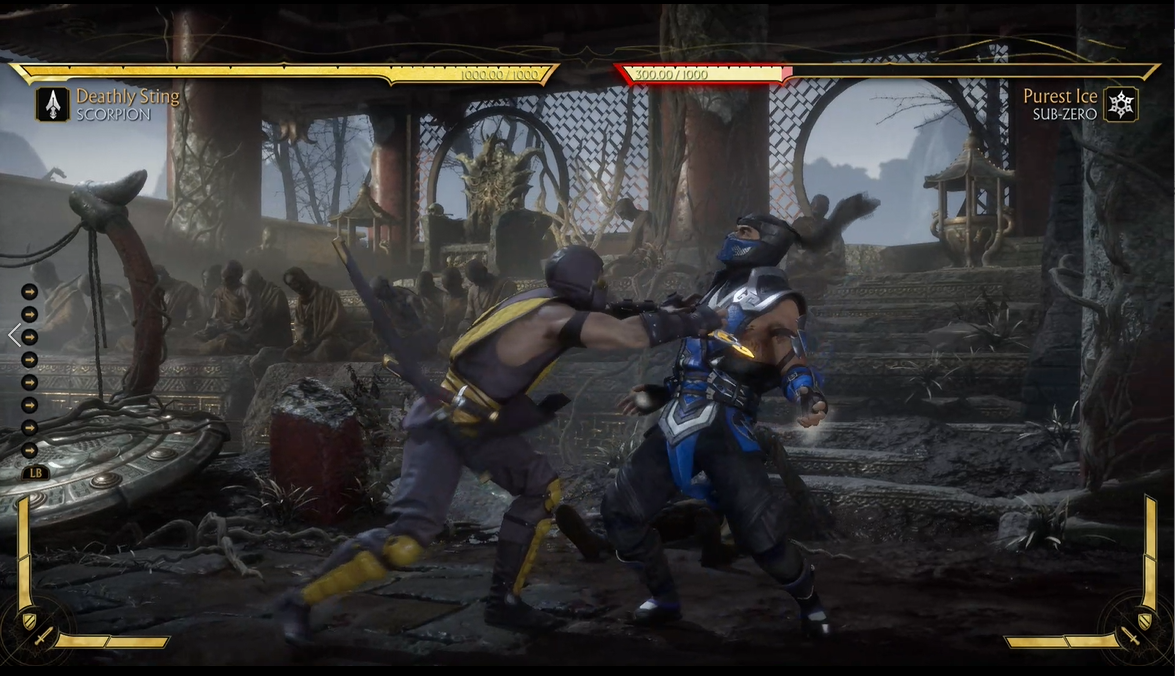grab: (281, 190, 912, 648)
